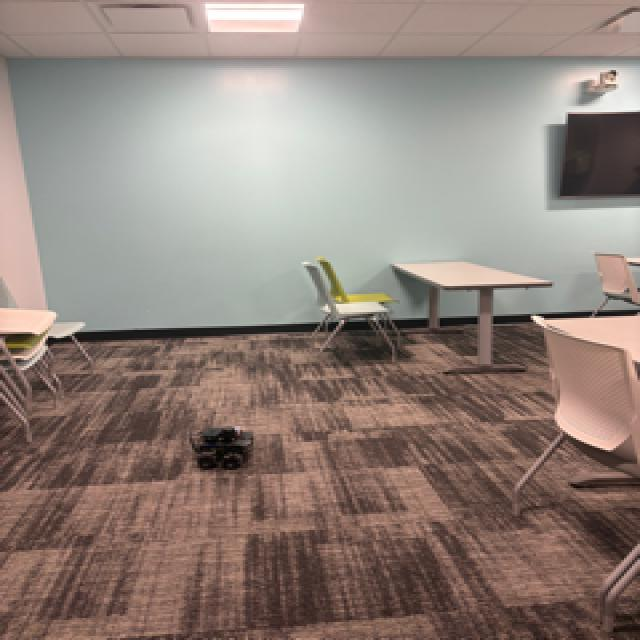ArduinoCar3: (184, 425, 262, 470)
